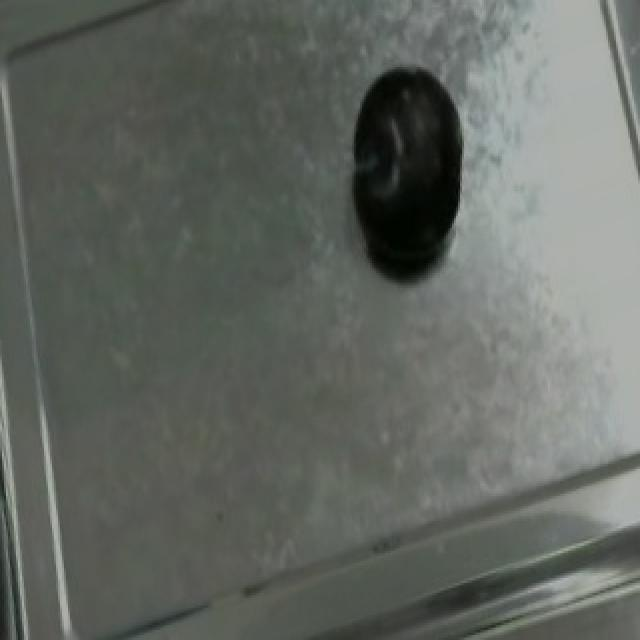Fruit: (334, 49, 480, 266)
